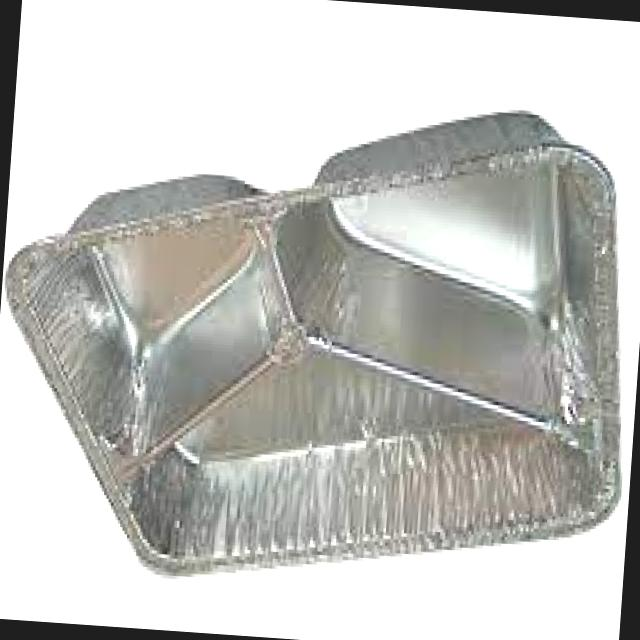kim_loai: (6, 114, 620, 574)
